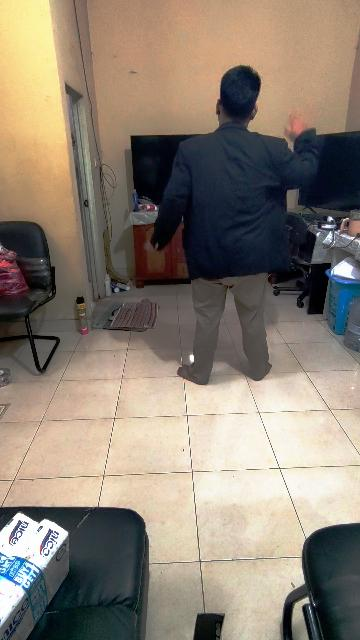berdiri: (152, 62, 320, 380)
